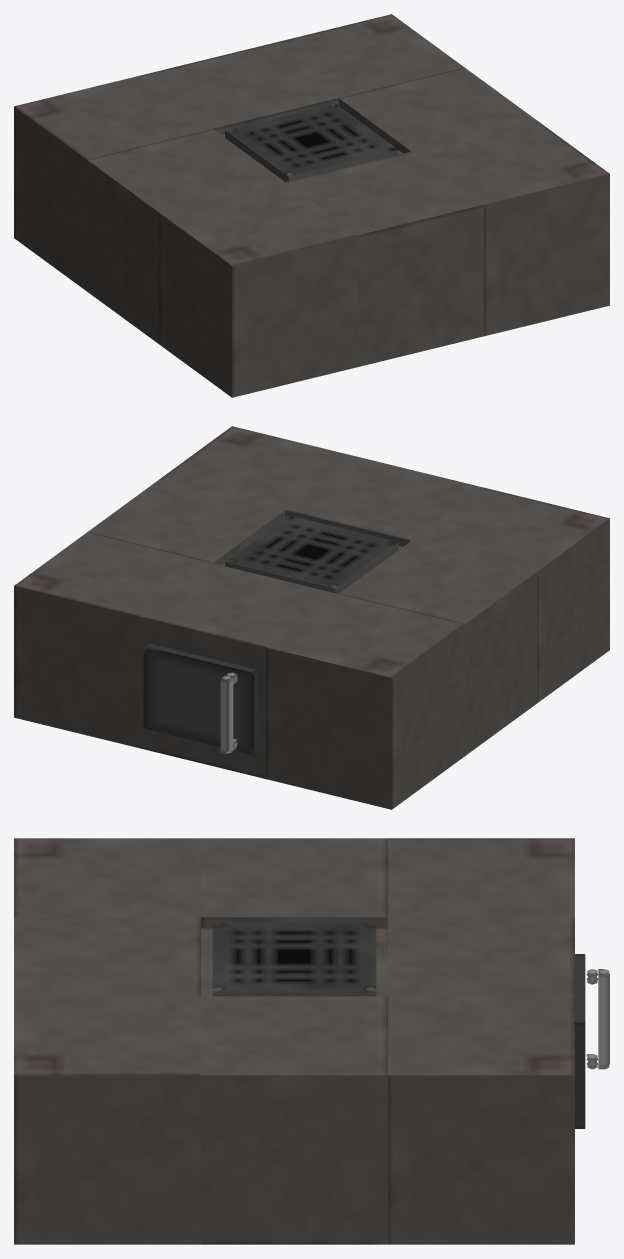
File: ashpit.obj
The picture shows the model from 3 angles, top to bottom: view 1: azimuth 30°, elevation 25°; view 2: azimuth 150°, elevation 25°; view 3: azimuth 270°, elevation 25°; orthographic projection. The views are drawn at different scales.
Visible parts, largest first — view 1: cube; view 2: cube; view 3: cube.
Boxes of the visible parts, x1,y1,x2,y2 form: cube: (14,14,609,397); cube: (14,426,609,809); cube: (14,838,609,1244).
Size of the model in its own units: 3 by 1 by 3.19.
